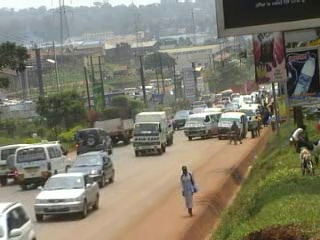Car: (34, 169, 101, 222), (65, 151, 116, 187), (0, 140, 37, 187), (0, 199, 42, 239), (70, 125, 113, 161), (167, 109, 196, 133), (165, 116, 176, 145)
